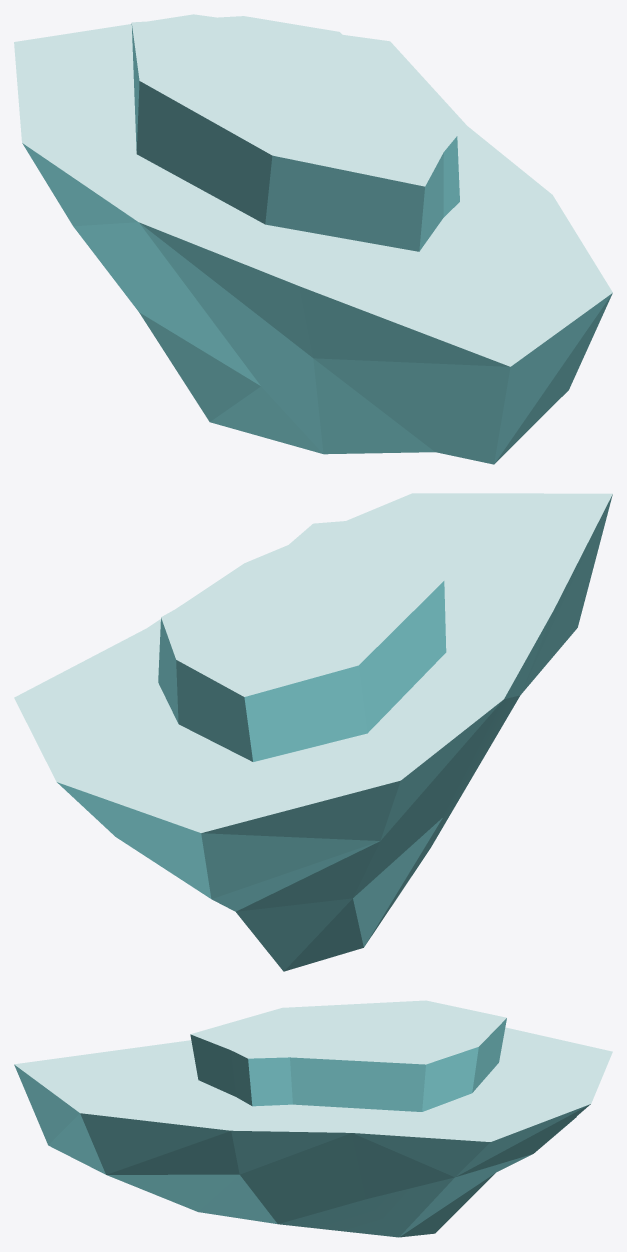
File: floe-deep.glb
3 renders of one model, top to bottom at view 1: azimuth 30°, elevation 25°; view 2: azimuth 150°, elevation 25°; view 3: azimuth 270°, elevation 25°, orthographic. The views are drawn at different scales.
Visible parts, largest first — view 1: floe-deep; view 2: floe-deep; view 3: floe-deep.
Part boxes in pixels (x1,y1,x2,y2): floe-deep: (14, 14, 612, 464); floe-deep: (14, 493, 612, 971); floe-deep: (14, 1000, 612, 1237).
Size of the model in its own units: 2.96 by 2.4 by 6.17.
Materials: 1 (1 with a texture image).
